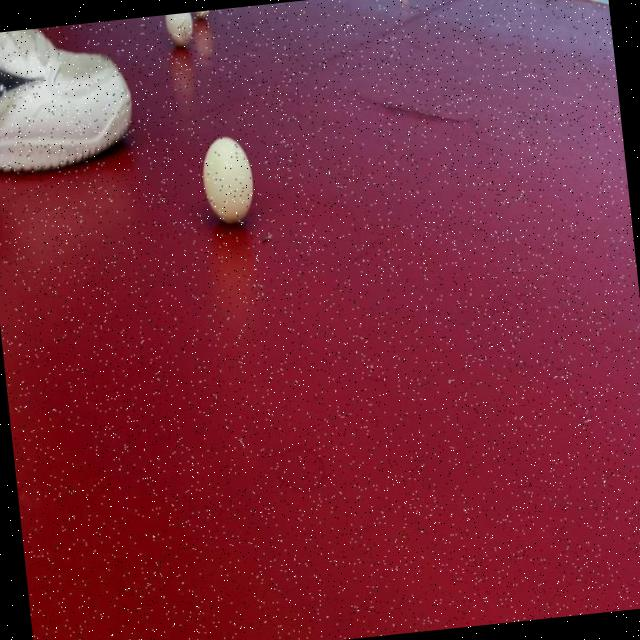ping-pong-ball: (191, 117, 271, 241), (155, 12, 198, 54), (190, 10, 222, 28)
